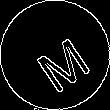M_NW: (22, 21, 88, 89)
